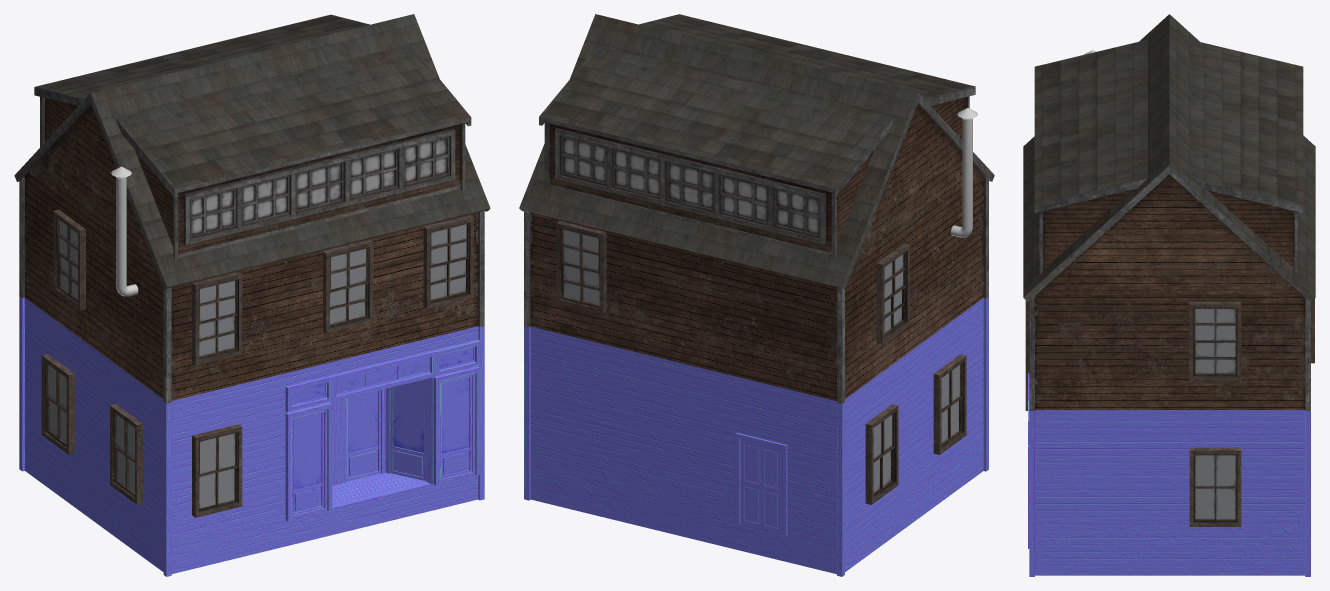
The model's file is RoofTop_Background14.fbx.
3 renders of one model, left to right at view 1: azimuth 30°, elevation 25°; view 2: azimuth 150°, elevation 25°; view 3: azimuth 270°, elevation 25°, orthographic. The views are drawn at different scales.
Visible parts, largest first — view 1: t_002_b001_1_1, t_002_br_opt_01, t_002_b002_1_1, t_002_br001_1, t_002_br_opt_01__1_, window_001_1, window_002_2, window_002_1, window_002_3, window_001_3, window_002_4, window_001_2 (+1 smaller); view 2: t_002_b001_1_1, t_002_b002_1_1, t_002_br_opt_01__1_, t_002_br001_1, t_002_br_opt_01, t002_door001, window_002_1__1_, window_001_3, window_001_2, window_002_4, chimney_1_2; view 3: t_002_b001_1_1, t_002_br001_1, t_002_b002_1_1, t_002_br_opt_01, t_002_br_opt_01__1_, window_002_4__1_, window_001_4.
Boxes of the visible parts, bbox=[...] form: t_002_b001_1_1: bbox=[19, 296, 484, 576]; t_002_br_opt_01: bbox=[115, 45, 471, 261]; t_002_b002_1_1: bbox=[19, 177, 484, 403]; t_002_br001_1: bbox=[14, 14, 490, 289]; t_002_br_opt_01__1_: bbox=[34, 14, 369, 147]; window_001_1: bbox=[192, 424, 242, 517]; window_002_2: bbox=[323, 239, 373, 333]; window_002_1: bbox=[192, 271, 242, 365]; window_002_3: bbox=[423, 215, 473, 308]; window_001_3: bbox=[41, 354, 74, 454]; window_002_4: bbox=[53, 209, 85, 310]; window_001_2: bbox=[110, 404, 142, 504]; t_002_b001_1_1: bbox=[524, 297, 988, 576]; t_002_b002_1_1: bbox=[524, 177, 988, 403]; t_002_br_opt_01__1_: bbox=[539, 46, 893, 259]; t_002_br001_1: bbox=[519, 14, 994, 289]; t_002_br_opt_01: bbox=[639, 14, 975, 139]; t002_door001: bbox=[735, 432, 787, 536]; window_002_1__1_: bbox=[556, 221, 606, 314]; window_001_3: bbox=[865, 404, 898, 504]; window_001_2: bbox=[933, 354, 966, 454]; window_002_4: bbox=[876, 243, 909, 344]; chimney_1_2: bbox=[951, 108, 977, 237]; t_002_b001_1_1: bbox=[1028, 373, 1310, 576]; t_002_br001_1: bbox=[1023, 14, 1315, 301]; t_002_b002_1_1: bbox=[1029, 295, 1310, 410]; t_002_br_opt_01: bbox=[1034, 39, 1147, 274]; t_002_br_opt_01__1_: bbox=[1191, 40, 1303, 273]; window_002_4__1_: bbox=[1189, 301, 1241, 380]; window_001_4: bbox=[1189, 447, 1241, 526].
Size of the model in its own units: 1063 by 1278 by 821.
